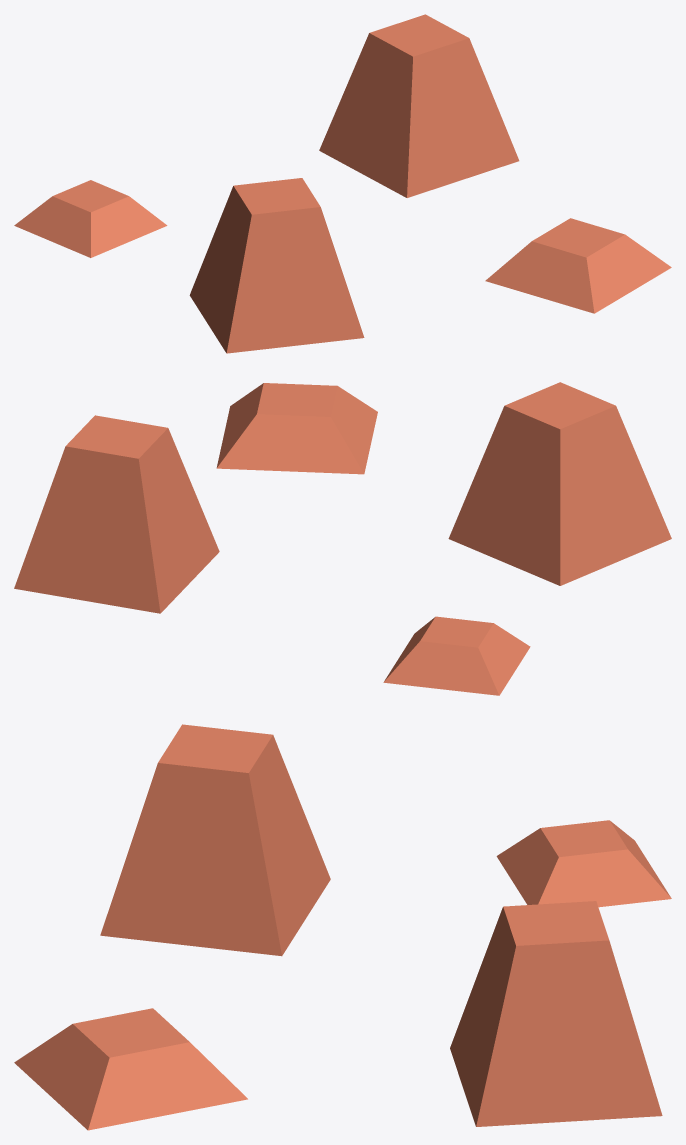
The model's file is rocks_smallB.dae.
3 views of the same model, one above another, from view 1: azimuth 30°, elevation 25°; view 2: azimuth 150°, elevation 25°; view 3: azimuth 270°, elevation 25° (orthographic). The views are drawn at different scales.
Visible parts, largest first — view 1: rocks_smallB; view 2: rocks_smallB; view 3: rocks_smallB.
Part boxes in pixels (x1,y1,x2,y2): rocks_smallB: (14, 14, 671, 353); rocks_smallB: (14, 382, 671, 695); rocks_smallB: (14, 724, 671, 1130).
Bounding box in the file's own units: 0.7288 × 0.186 × 0.6988.
